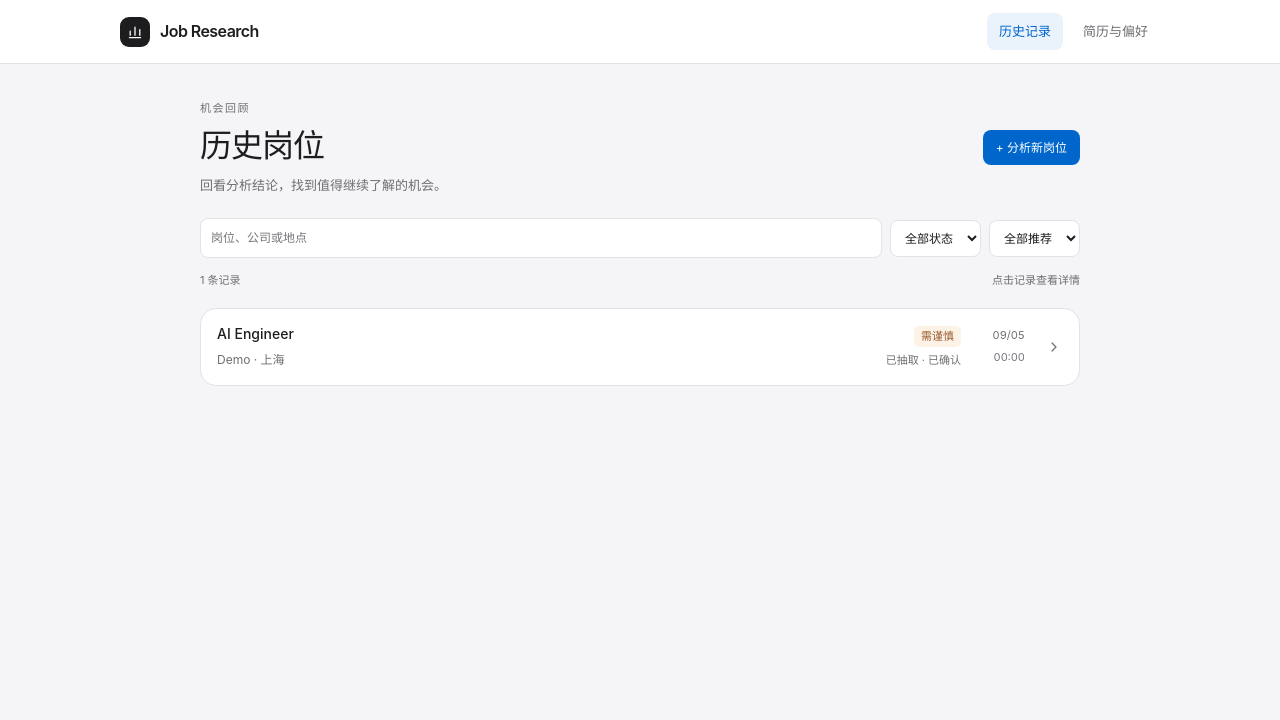
Test: business pages › opens opportunity detail when a history card is clicked
Click the link "AI Engineer Demo · 上海 需谨慎 已抽取 · 已确认 09/05 00:00" at (255, 333), box x1=217 y1=325 x2=1062 y2=367
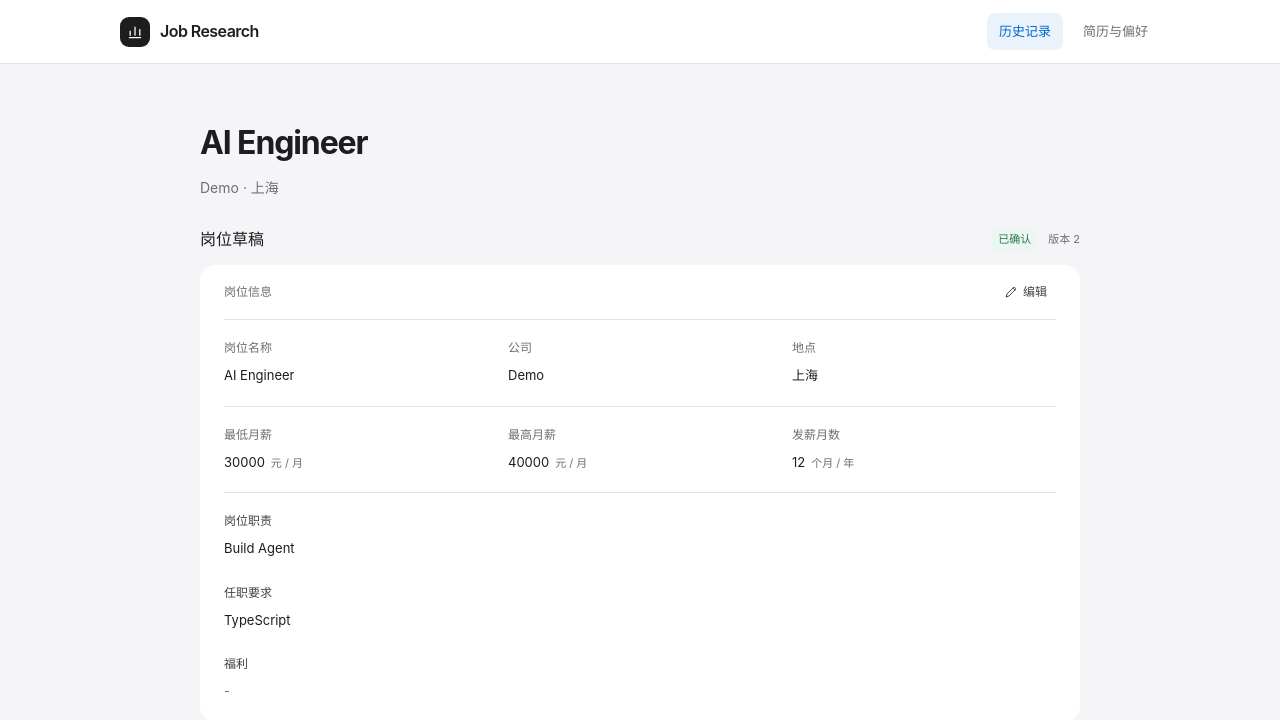
Check: the heading "岗位草稿" is shown, box x1=200 y1=227 x2=264 y2=253
Check: the heading "AI Engineer" is shown, box x1=200 y1=123 x2=368 y2=162
